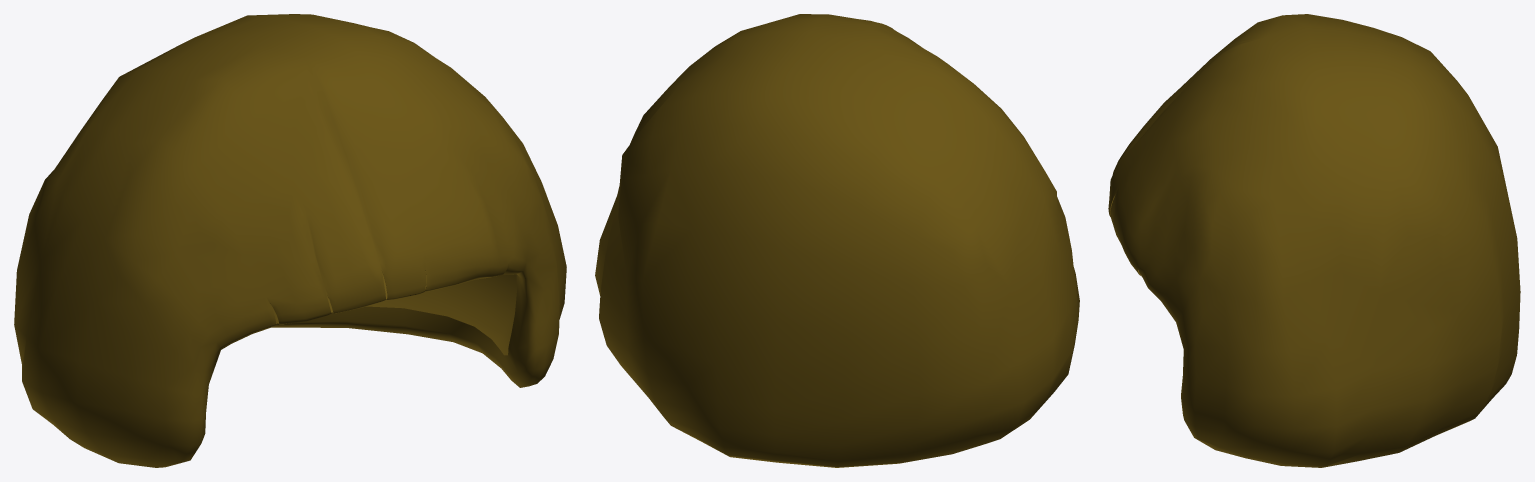
The model's file is Girl Hair 05.glb.
3 views of the same model, side by side, from view 1: azimuth 30°, elevation 25°; view 2: azimuth 150°, elevation 25°; view 3: azimuth 270°, elevation 25° (orthographic). The views are drawn at different scales.
Parts seen in each view (by area): view 1: GirlHair5; view 2: GirlHair5; view 3: GirlHair5.
Boxes of the visible parts, bbox=[...] form: GirlHair5: bbox=[14, 14, 566, 467]; GirlHair5: bbox=[595, 14, 1079, 467]; GirlHair5: bbox=[1108, 14, 1520, 467].
Size of the model in its own units: 0.0113 by 0.00835 by 0.009.
